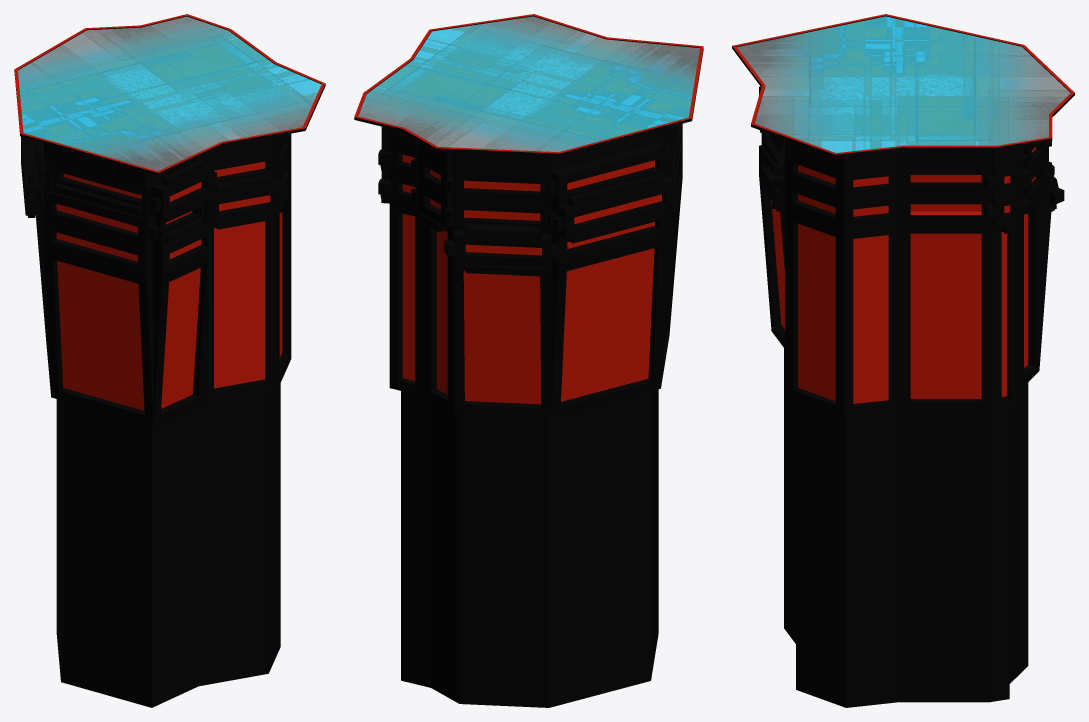
Rendered from Platforma1.FBX.
The picture shows the model from 3 angles, left to right: view 1: azimuth 30°, elevation 25°; view 2: azimuth 150°, elevation 25°; view 3: azimuth 270°, elevation 25°; orthographic projection. The views are drawn at different scales.
Parts seen in each view (by area): view 1: Line001; view 2: Line001; view 3: Line001.
Boxes of the visible parts, x1=… form: Line001: x1=14, y1=14, x2=325, y2=707; Line001: x1=354, y1=14, x2=703, y2=707; Line001: x1=732, y1=14, x2=1074, y2=707.
Bounding box in the file's own units: 1485 × 2821 × 1529.
